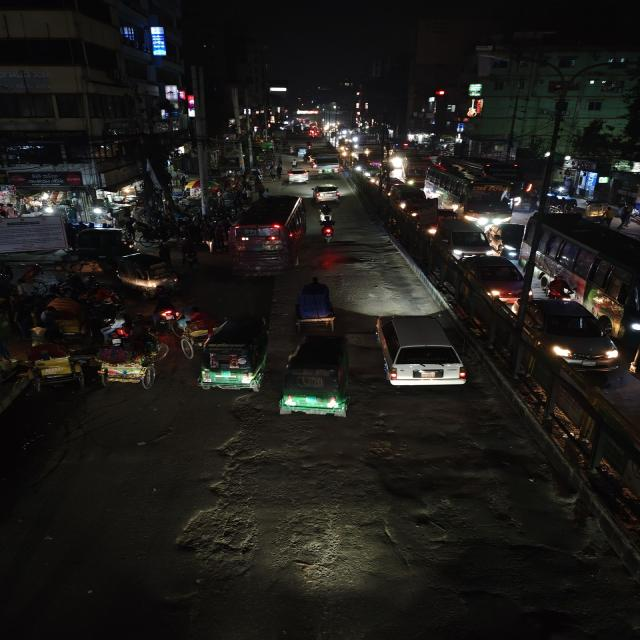bus: (529, 216, 640, 336), (227, 192, 308, 280), (426, 160, 515, 224)
car: (372, 310, 469, 391), (514, 298, 620, 368), (454, 254, 533, 304), (432, 219, 497, 259), (392, 185, 431, 221), (312, 184, 342, 202), (286, 167, 311, 185)
cng: (277, 333, 357, 421), (189, 315, 272, 393), (114, 256, 176, 294)
motorcycle: (146, 285, 182, 325), (545, 273, 577, 301), (317, 214, 337, 244), (316, 203, 335, 225)
rickshaw: (91, 333, 168, 392), (22, 332, 87, 392), (287, 280, 340, 332), (43, 303, 91, 339)
truck: (314, 153, 342, 181)
